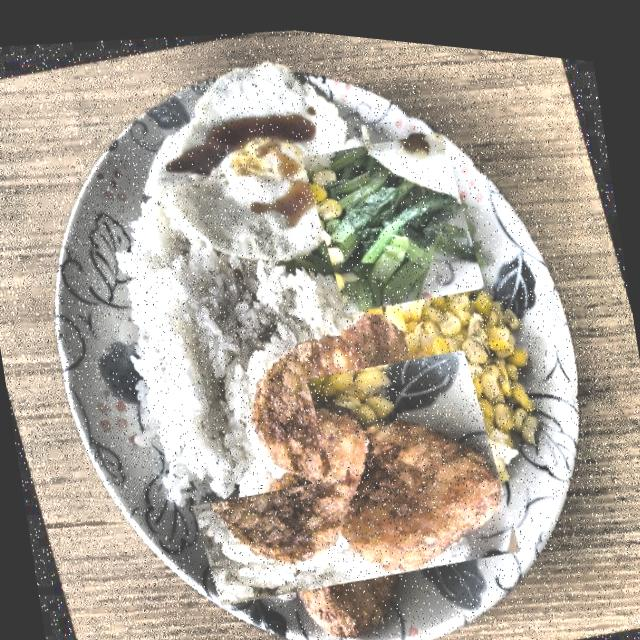Food: (178, 293, 506, 640), (90, 202, 338, 526), (123, 21, 391, 296), (296, 108, 490, 318)
